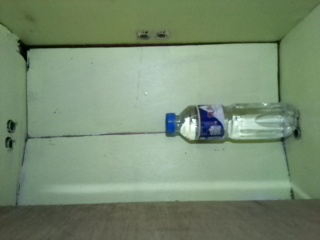bottle: (162, 101, 298, 144)
